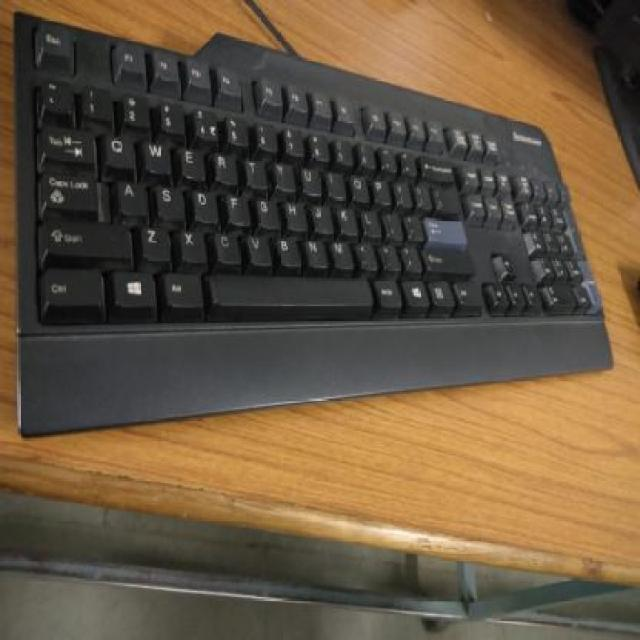keyboard: (20, 12, 619, 437)
